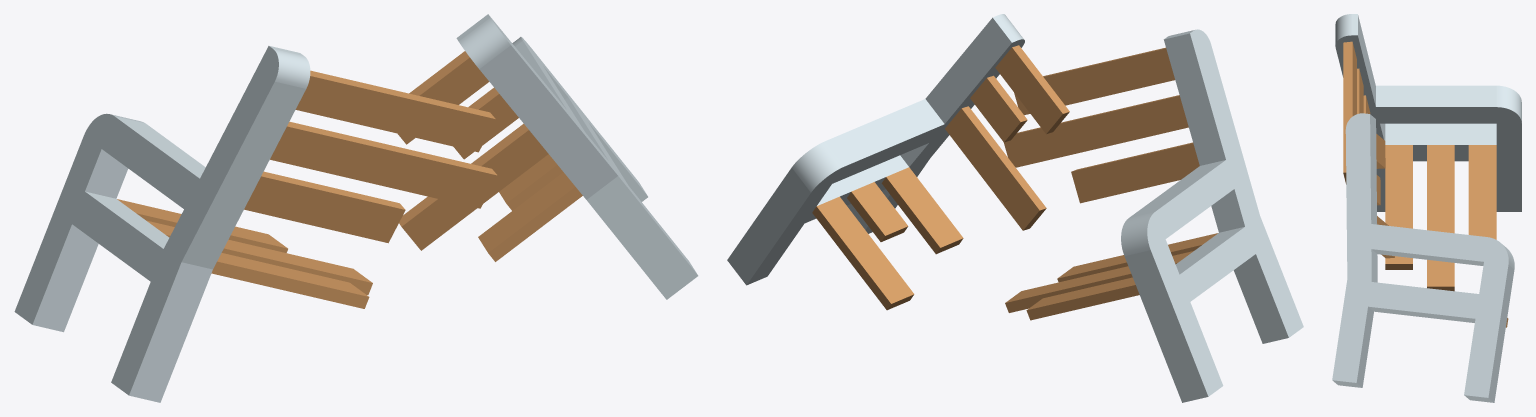
Rendered from benchBroken.dae.
3 renders of one model, left to right at view 1: azimuth 30°, elevation 25°; view 2: azimuth 150°, elevation 25°; view 3: azimuth 270°, elevation 25°, orthographic. The views are drawn at different scales.
Parts seen in each view (by area): view 1: benchBroken %8angles; view 2: benchBroken %8angles; view 3: benchBroken %8angles.
Boxes of the visible parts, x1=… form: benchBroken %8angles: x1=14, y1=14, x2=698, y2=402; benchBroken %8angles: x1=727, y1=14, x2=1303, y2=402; benchBroken %8angles: x1=1332, y1=14, x2=1521, y2=402.
Size of the model in its own units: 0.9902 by 0.5319 by 0.3829.
